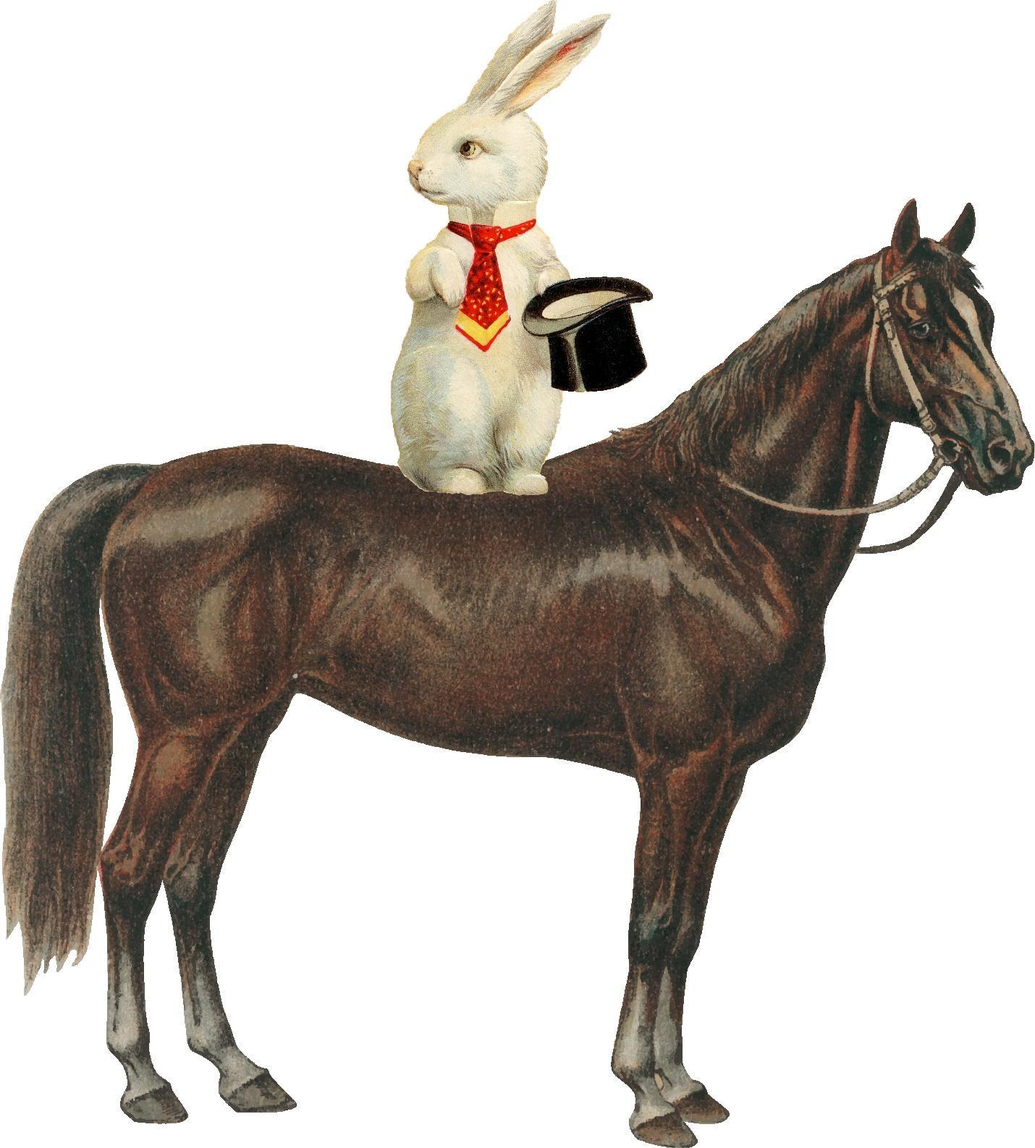horse: (0, 192, 1035, 1148)
